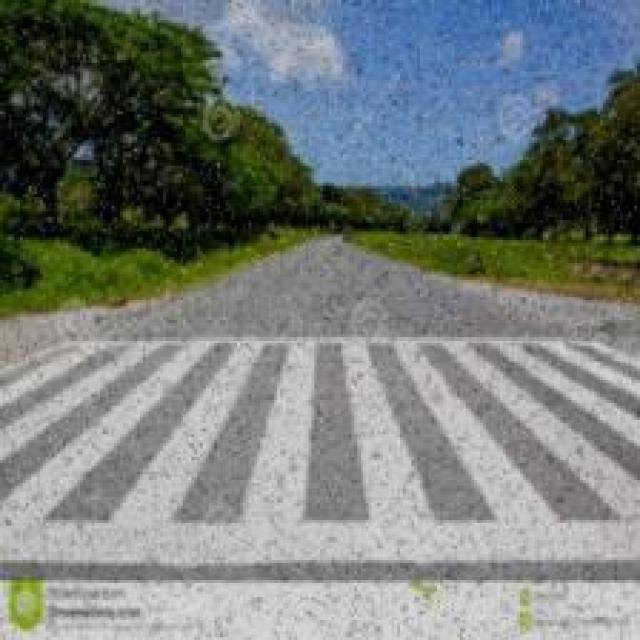walk-crossing: (0, 326, 640, 571)
